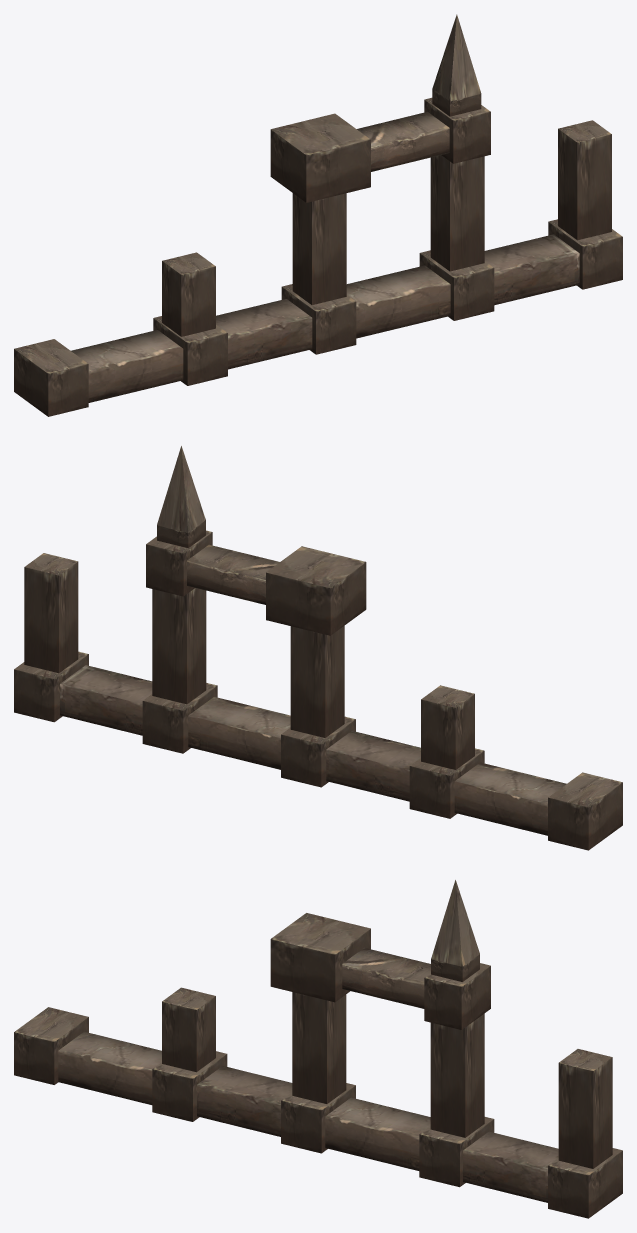
The model's file is new_p_fence_3.FBX.
The picture shows the model from 3 angles, top to bottom: view 1: azimuth 30°, elevation 25°; view 2: azimuth 150°, elevation 25°; view 3: azimuth 330°, elevation 25°; orthographic projection.
Visible parts, largest first — view 1: new_p_fence_3; view 2: new_p_fence_3; view 3: new_p_fence_3.
Part boxes in pixels (x1,y1,x2,y2): new_p_fence_3: (14, 14, 622, 416); new_p_fence_3: (14, 446, 622, 850); new_p_fence_3: (14, 880, 622, 1218).
Size of the model in its own units: 2.73 by 1.32 by 0.2961.
